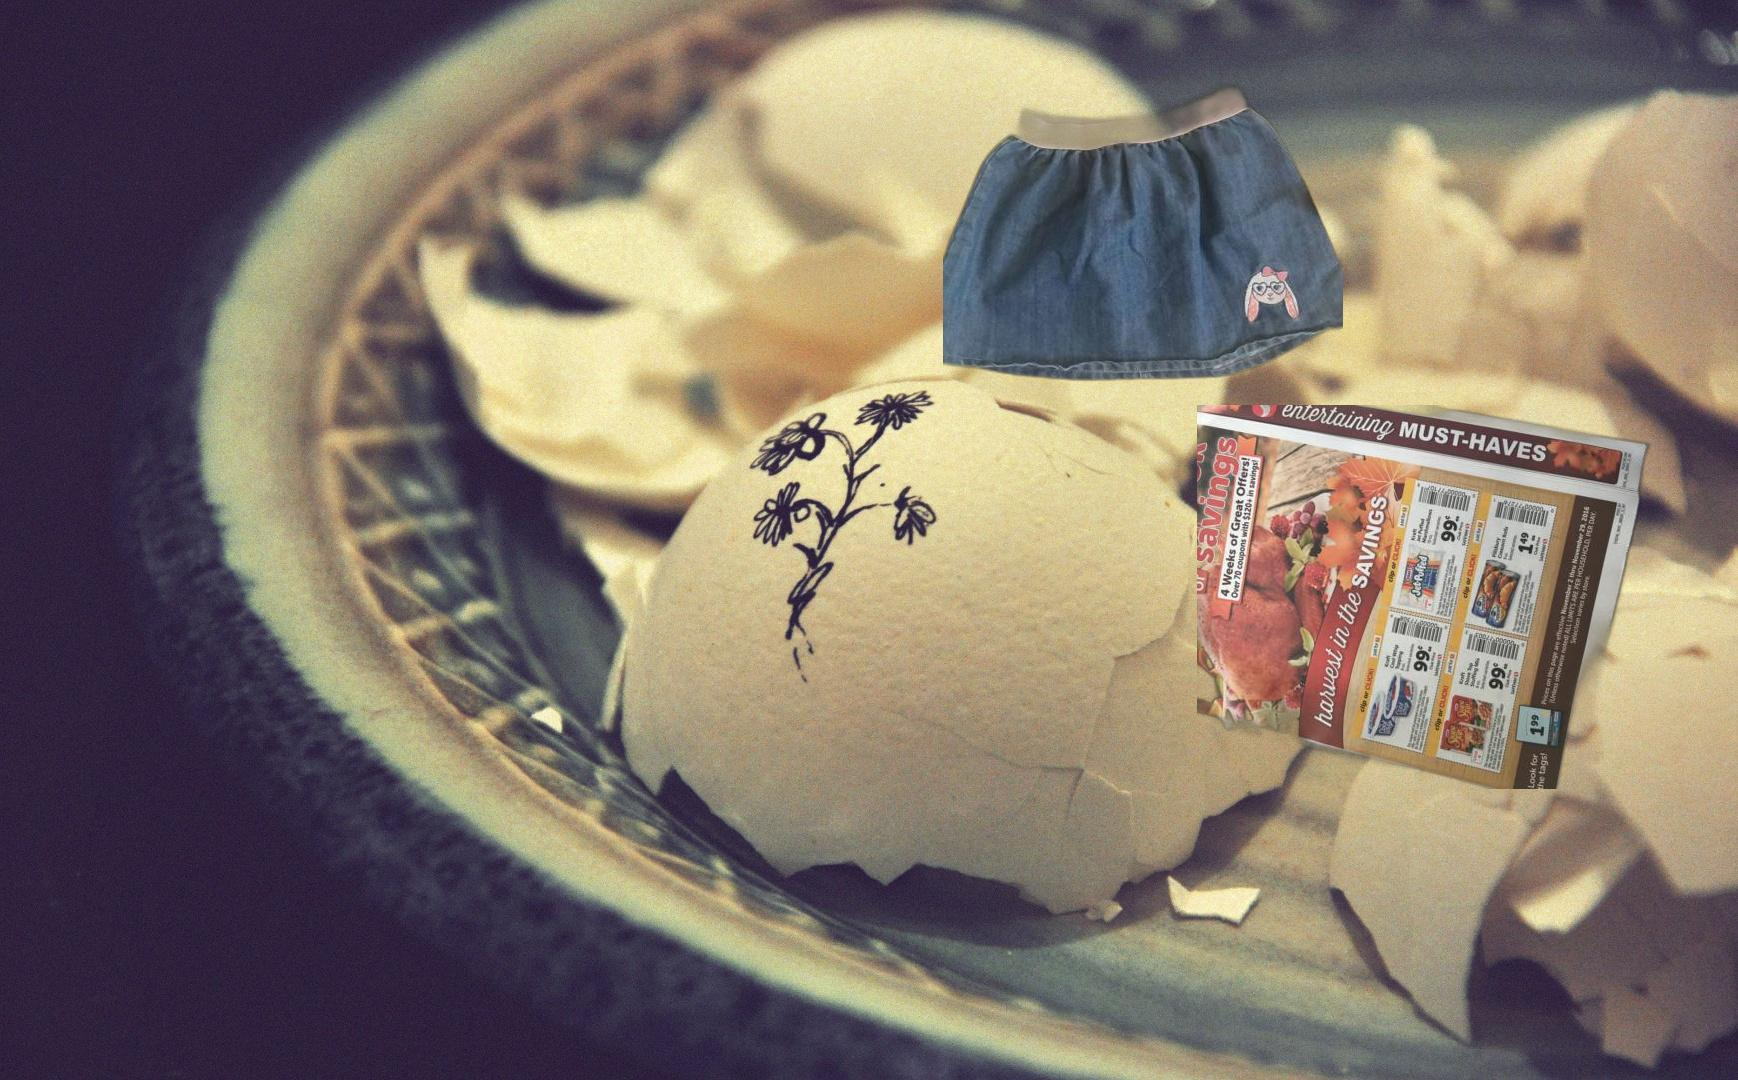clothes: (943, 6, 1344, 384)
paper: (1197, 406, 1653, 789)
